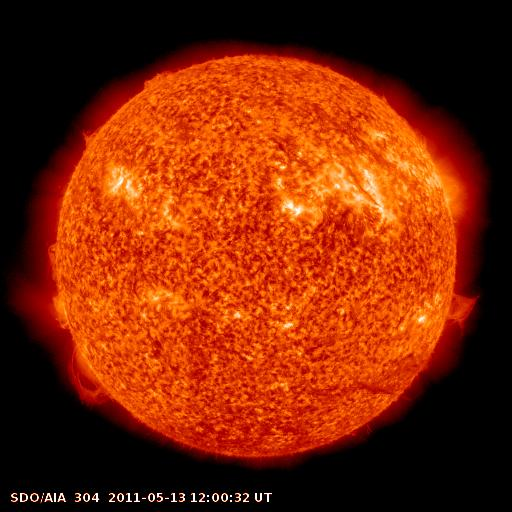prominence: (63, 342, 119, 409), (439, 286, 486, 343), (35, 293, 78, 332), (36, 238, 65, 286), (69, 122, 111, 151), (137, 65, 178, 94), (406, 120, 435, 159)
